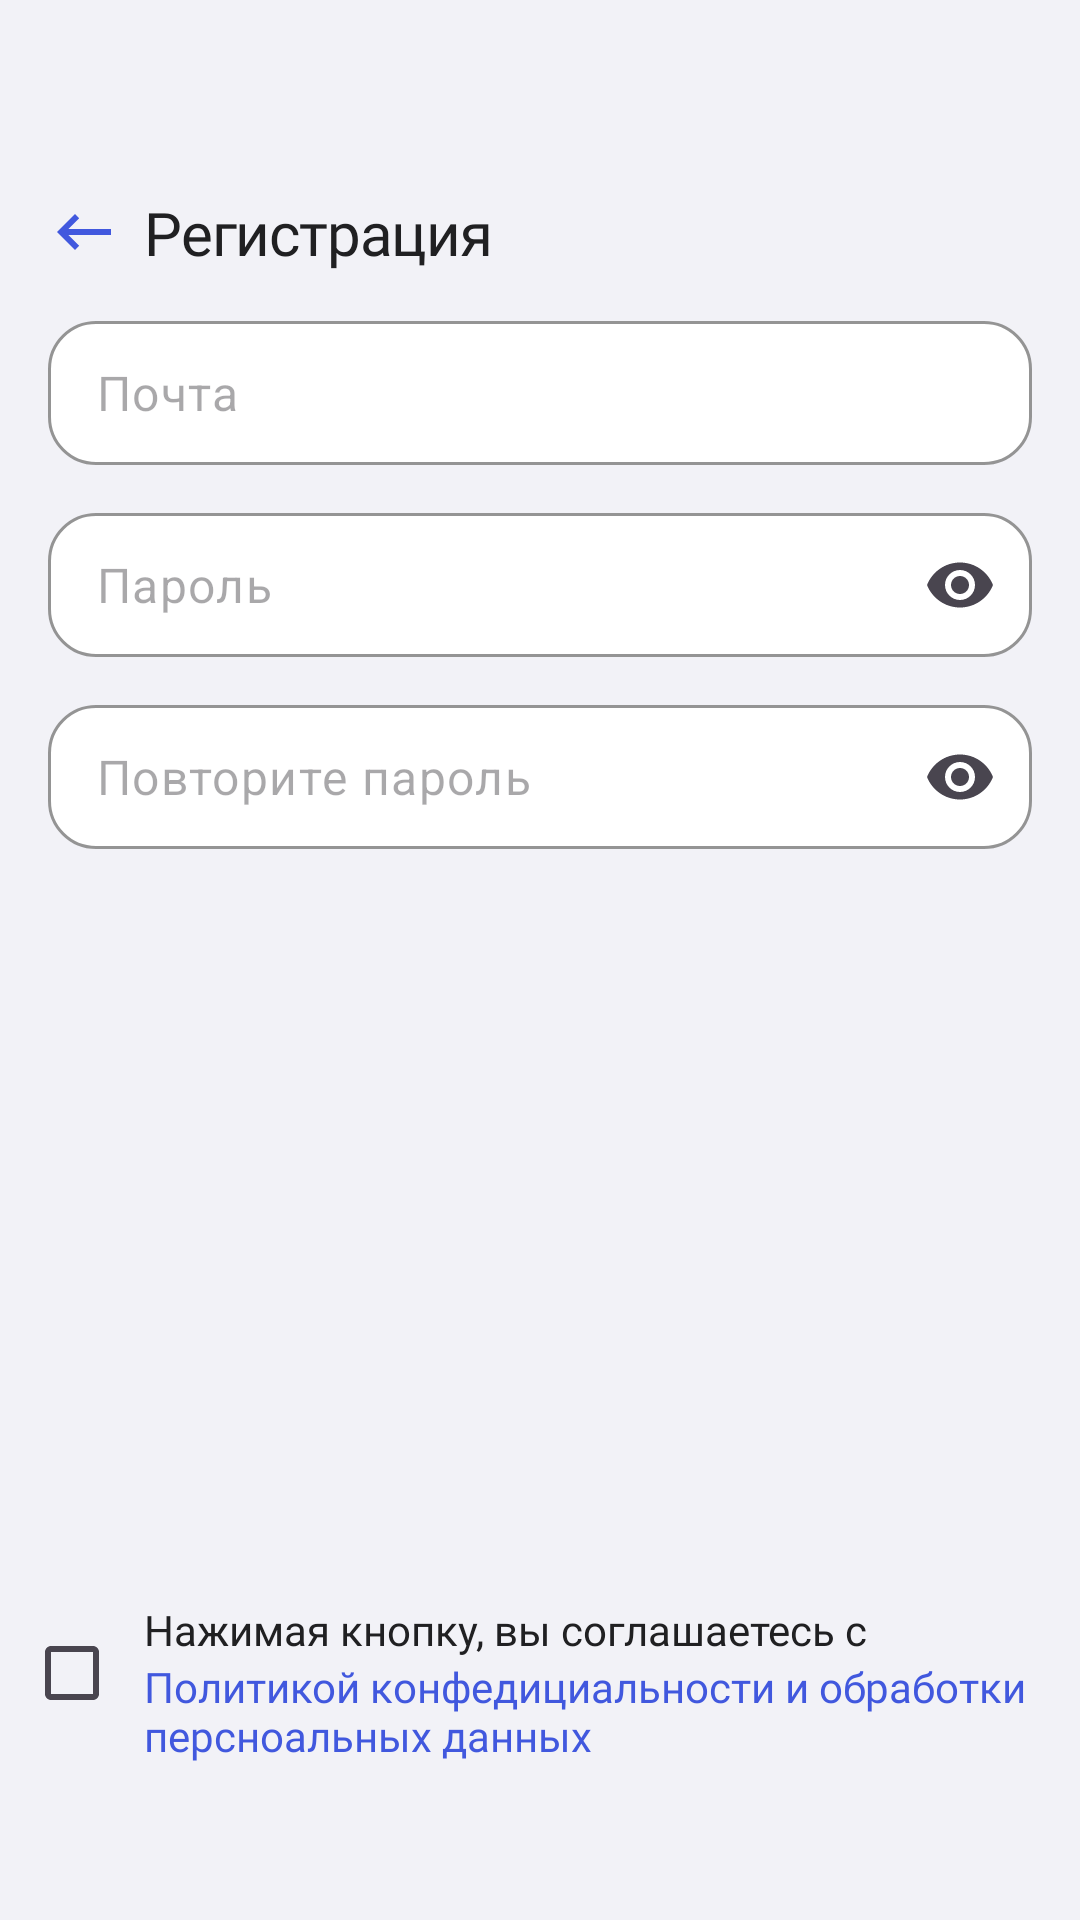

Icon click points for this 1080 × 1920 phone screenshot, format (x=x, y=y):
arrows back: (x=84, y=232)
